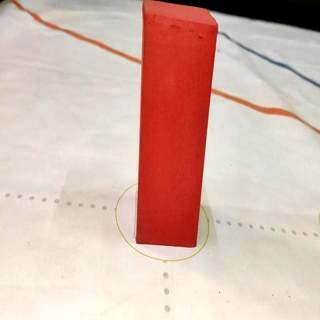redbox: (136, 0, 218, 248)
